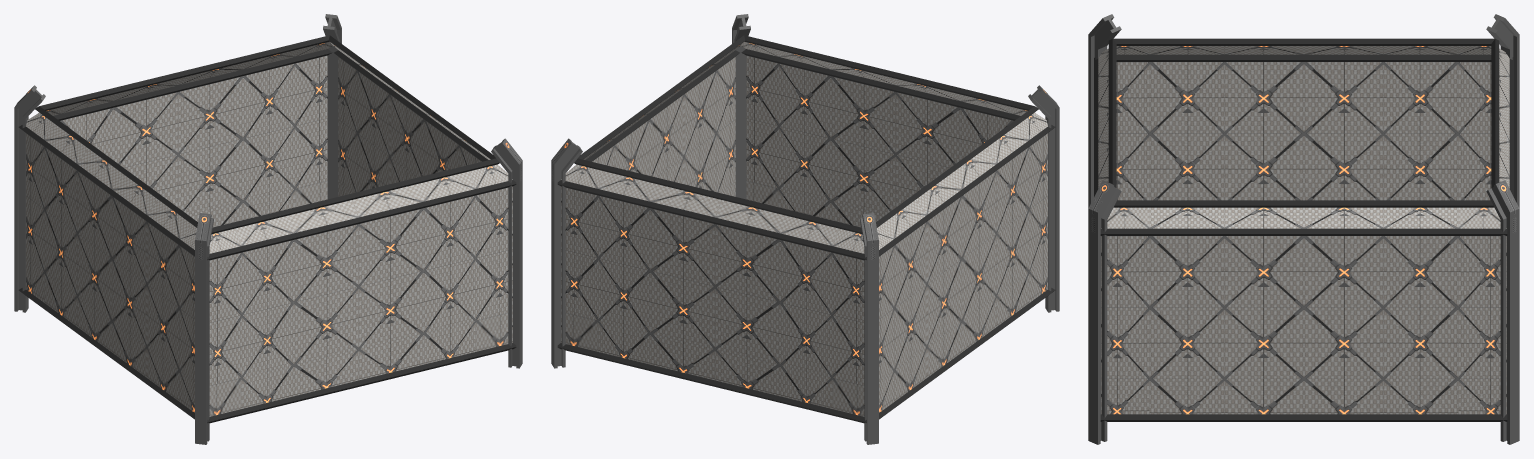
3 views of the same model, side by side, from view 1: azimuth 30°, elevation 25°; view 2: azimuth 150°, elevation 25°; view 3: azimuth 270°, elevation 25° (orthographic). The views are drawn at different scales.
Visible parts, largest first — view 1: Plane.006; view 2: Plane.006; view 3: Plane.006.
Part boxes in pixels (bbox=[...]): Plane.006: bbox=[14, 14, 522, 444]; Plane.006: bbox=[551, 14, 1059, 444]; Plane.006: bbox=[1088, 14, 1519, 444].
Size of the model in its own units: 50.45 by 32.9 by 50.45.
Materials: 1 (1 with a texture image).
